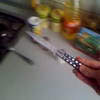knife: (26, 31, 83, 69)
